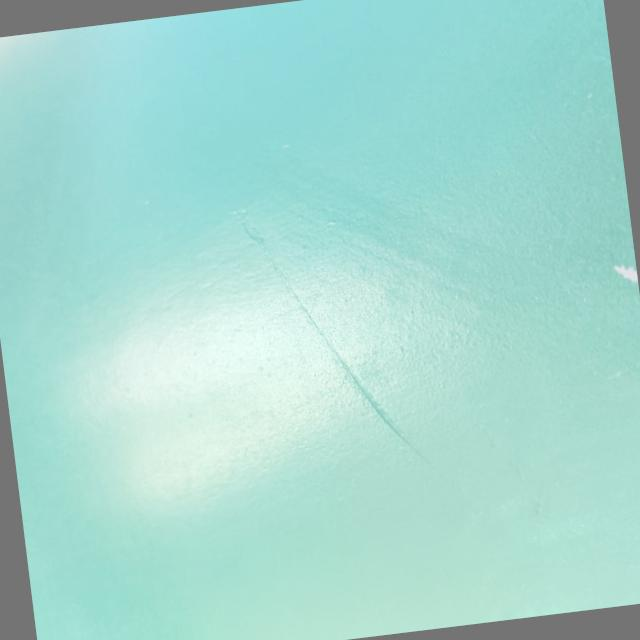scratch: (232, 189, 458, 506)
